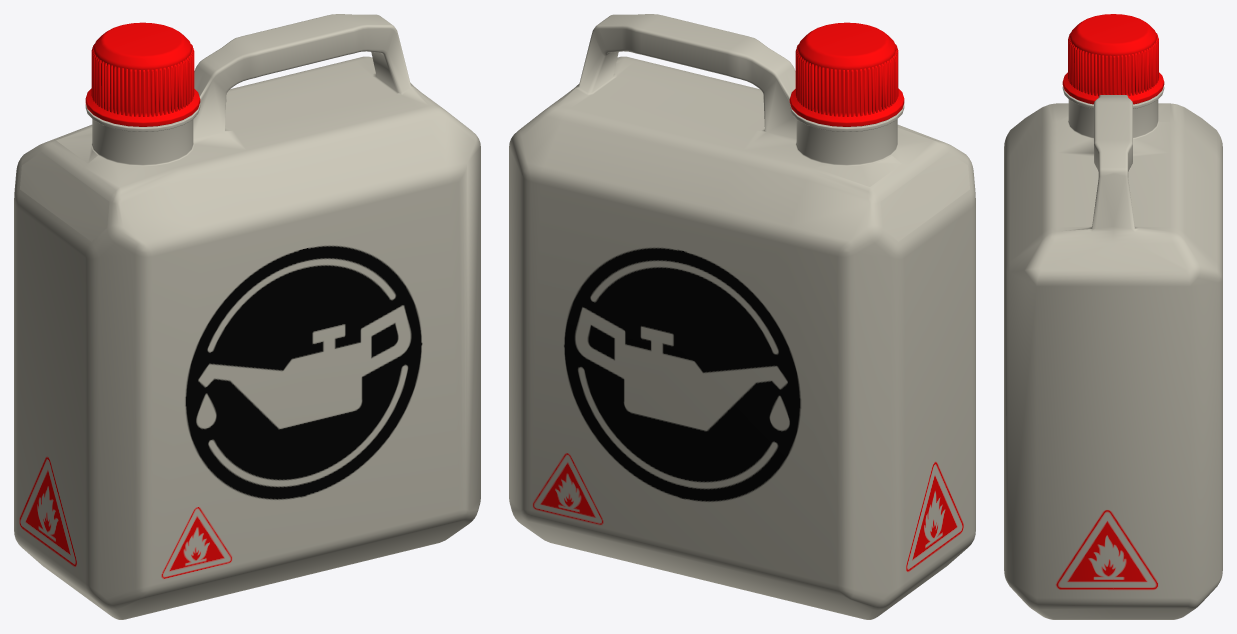
Rendered from test-model_-_a_canister..glb.
The picture shows the model from 3 angles, left to right: view 1: azimuth 30°, elevation 25°; view 2: azimuth 150°, elevation 25°; view 3: azimuth 270°, elevation 25°; orthographic projection. The views are drawn at different scales.
Parts seen in each view (by area): view 1: Box001_Material #13_0, Box001_Material #14_0; view 2: Box001_Material #13_0, Box001_Material #14_0; view 3: Box001_Material #13_0, Box001_Material #14_0.
Boxes of the visible parts, bbox=[...] form: Box001_Material #13_0: bbox=[14, 14, 480, 619]; Box001_Material #14_0: bbox=[85, 22, 200, 126]; Box001_Material #13_0: bbox=[509, 14, 975, 619]; Box001_Material #14_0: bbox=[789, 22, 904, 126]; Box001_Material #13_0: bbox=[1004, 86, 1222, 619]; Box001_Material #14_0: bbox=[1062, 14, 1164, 104].
Size of the model in its own units: 15.44 by 20.71 by 8.56.
Materials: 2 (1 with a texture image).
